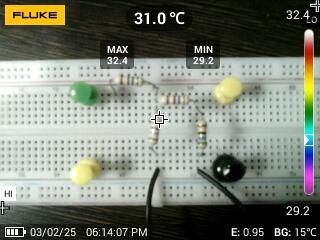resistor: (147, 113, 163, 151), (193, 118, 210, 153), (157, 93, 194, 109), (112, 74, 146, 87)
